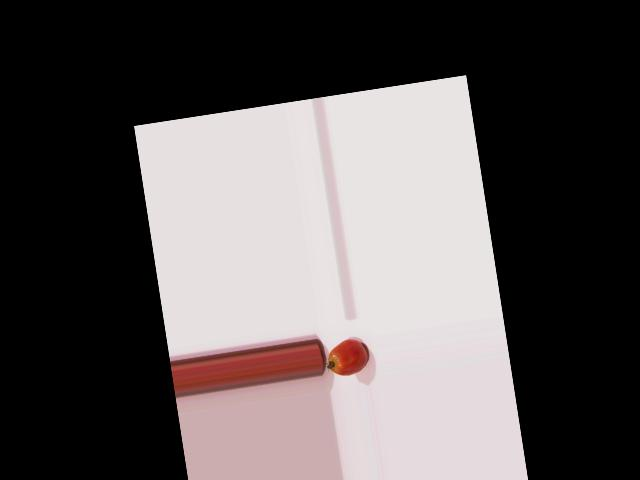tomato: (325, 336, 369, 377)
